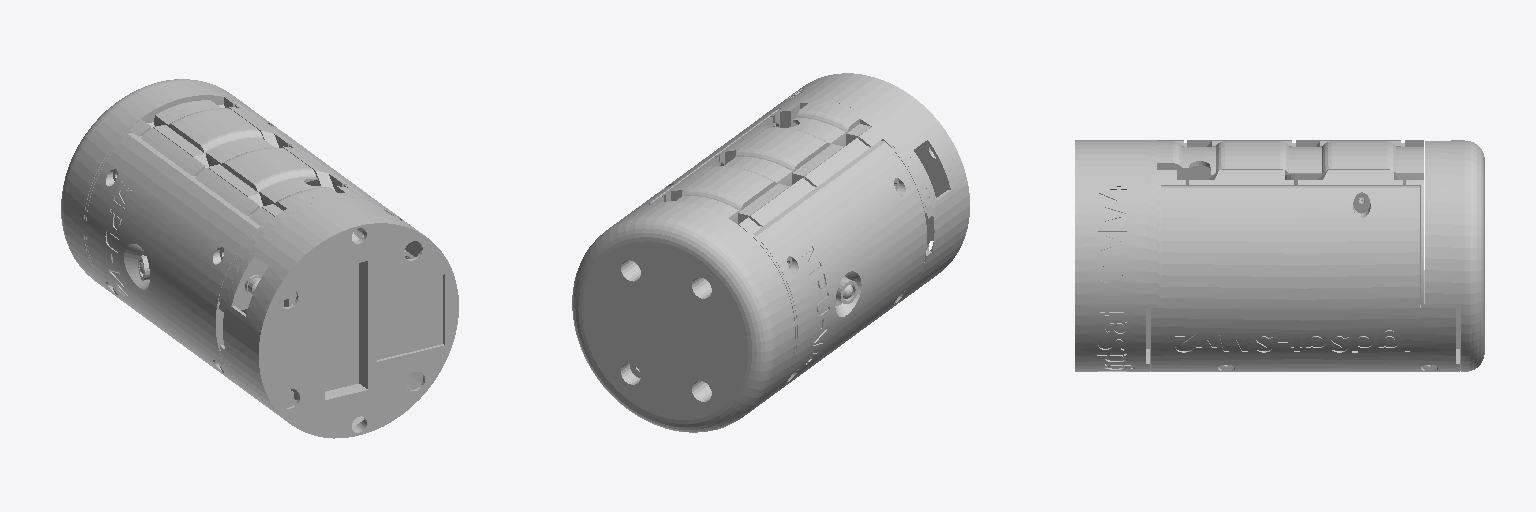
The model's file is fusion_cansat_Frame.obj.
3 views of the same model, side by side, from view 1: azimuth 30°, elevation 25°; view 2: azimuth 150°, elevation 25°; view 3: azimuth 270°, elevation 25° (orthographic).
Bounding box in the file's own units: 65.29 × 65 × 115.